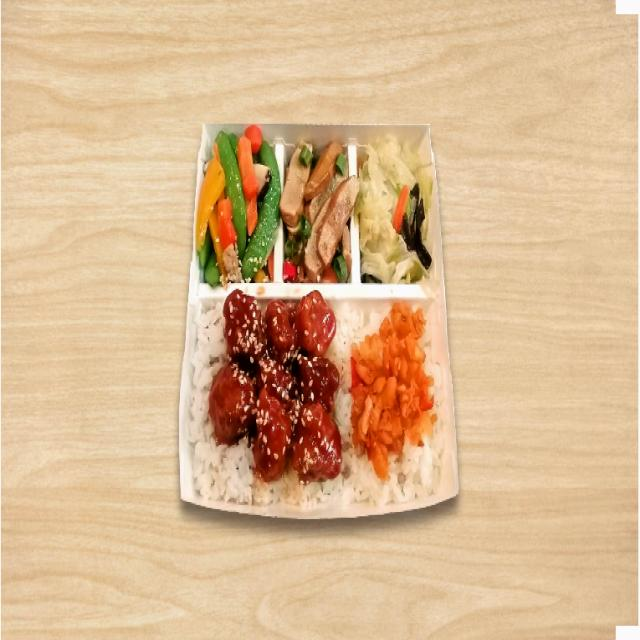Fried dried beans: (284, 132, 354, 288)
bean bag: (208, 130, 272, 280)
cabbage: (361, 139, 433, 281)
three-cup chicken: (221, 296, 340, 477)
